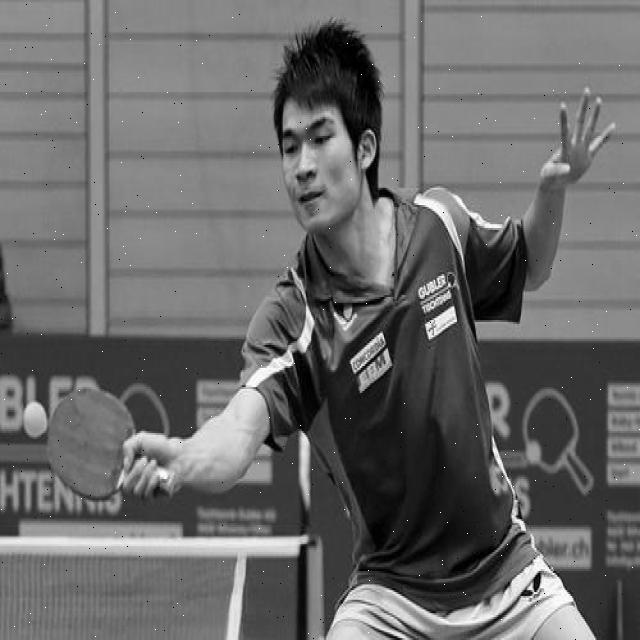ping-pong-ball: (23, 400, 48, 438)
